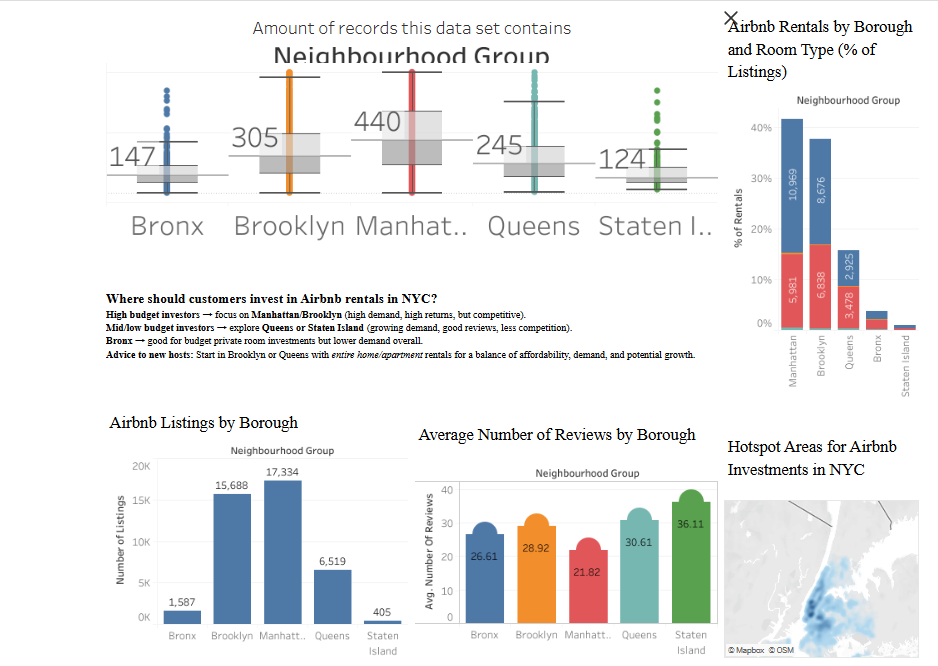

Layout of this report page (visuals, bound fields, positions):
{"tool":"tableau","page":{"name":"Dashboard 2","canvas":[1000,800],"ordinal":1},"visuals":[{"type":"worksheet","title":"Total Listing","mark":"Circle","rows":["price"],"cols":["neighbourhood_group"],"box":[8,8,742,287]},{"type":"worksheet","title":"Sheet 3","mark":"Automatic","rows":["Airbnb_listing.csv_35F62AEC4176496BBFBB2A61F3DE1D97"],"cols":["neighbourhood_group"],"box":[750,8,242,491]},{"type":"dashboard-object","box":[750,8,24,24]},{"type":"text","box":[8,295,742,188]},{"type":"worksheet","title":"Sheet 2","mark":"Automatic","rows":["id"],"cols":["neighbourhood_group"],"box":[8,483,371,309]},{"type":"worksheet","title":"Sheet 4","mark":"Bar","rows":["number_of_reviews","number_of_reviews"],"cols":["neighbourhood_group"],"box":[379,483,371,309]},{"type":"worksheet","title":"Sheet 6","mark":"Heatmap","box":[750,499,242,293]}]}

Visuals, with their boxes on the page's 1000x800 design canvas (x1, y1, x2, y2). These are canvas units, not pixel positions in the 938x666 screenshot, which may show the page scaled, cropped or inside an application window:
"Total Listing" worksheet (Circle marks): x1=8, y1=8, x2=750, y2=295
"Sheet 3" worksheet: x1=750, y1=8, x2=992, y2=499
dashboard-object: x1=750, y1=8, x2=774, y2=32
text: x1=8, y1=295, x2=750, y2=483
"Sheet 2" worksheet: x1=8, y1=483, x2=379, y2=792
"Sheet 4" worksheet (Bar marks): x1=379, y1=483, x2=750, y2=792
"Sheet 6" worksheet (Heatmap marks): x1=750, y1=499, x2=992, y2=792
